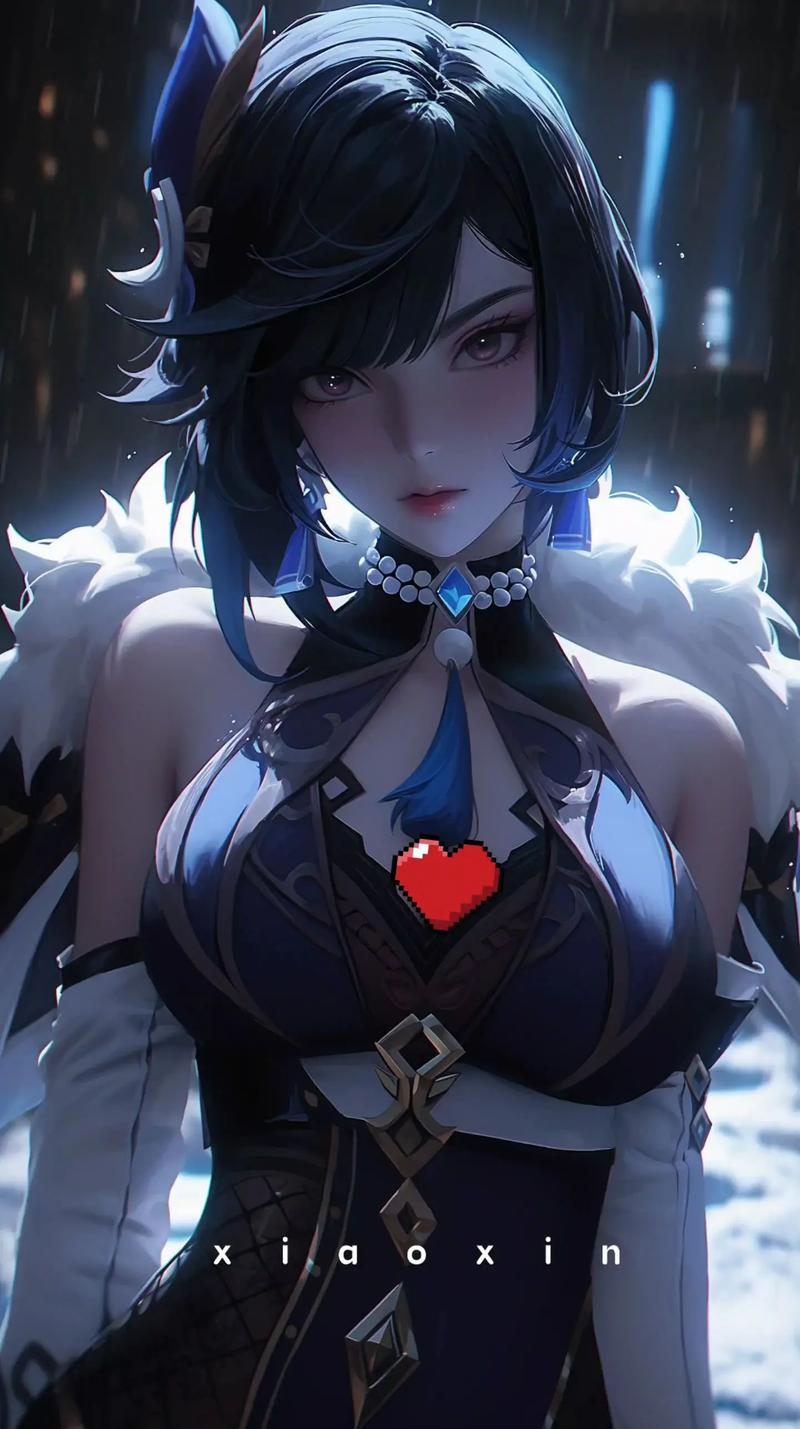夜兰: (18, 11, 754, 1429)
